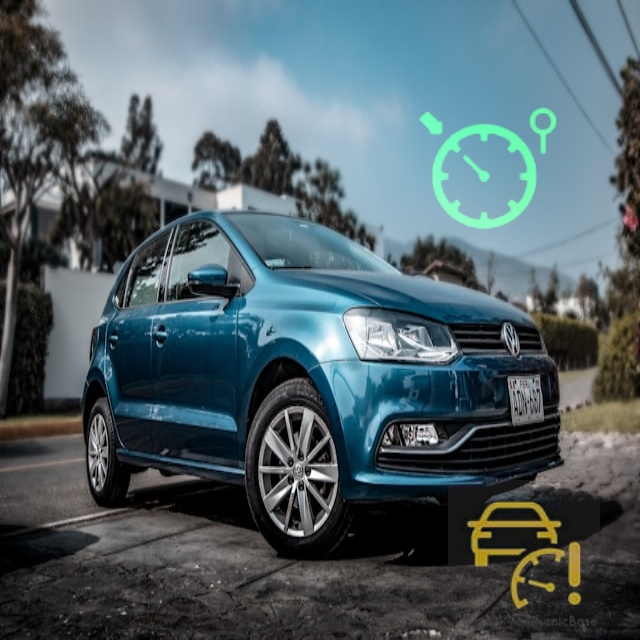symbol: (386, 69, 589, 272), (448, 480, 600, 632)
